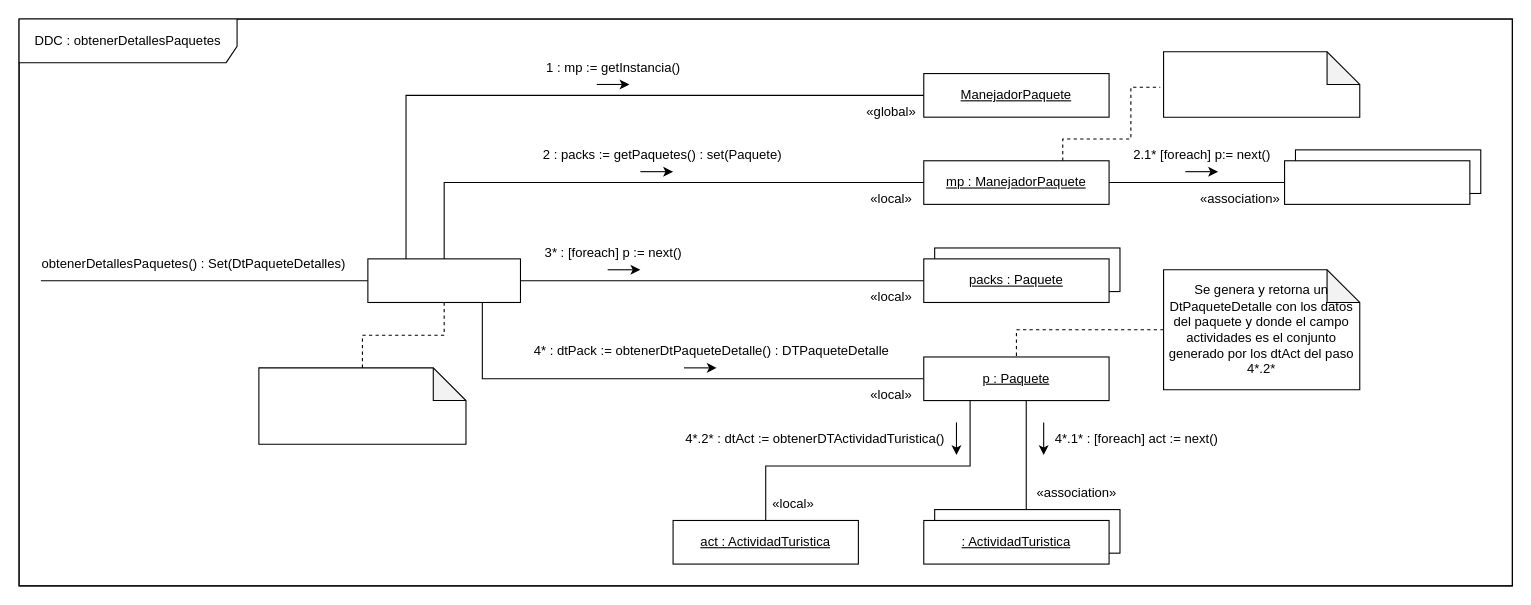
Image size: 1531x605. Some labels were removed from this diagram. Here are the shapes that lost their labels. From the top down, the centre of each, then its label:
At (1261,84): "Se genera una colecion (De tipo List) con cada p del paso 2.1*".
At (1376,182): ": Paquete".
At (443,280): ": ControladorPaquete".
At (362,405): "Se genera y construye el conjunto con todos los dtAct del paso 4*.2*".
